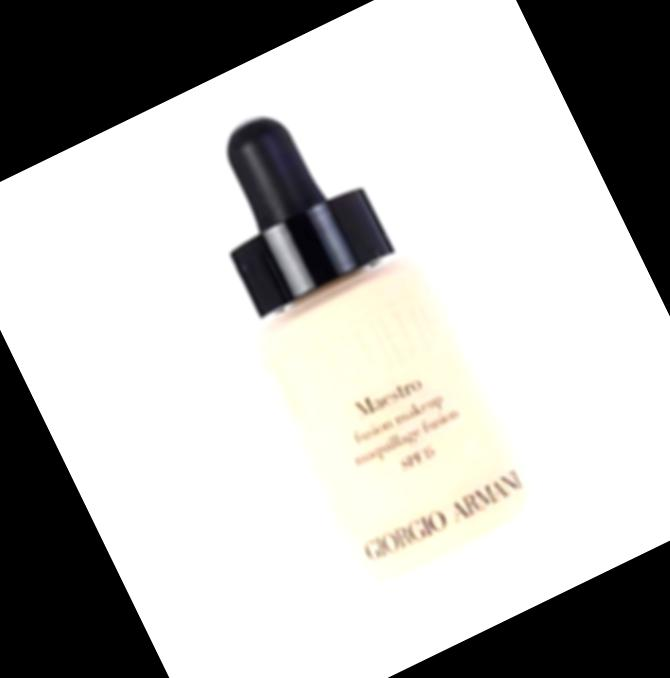cosmetic: (138, 68, 572, 630)
